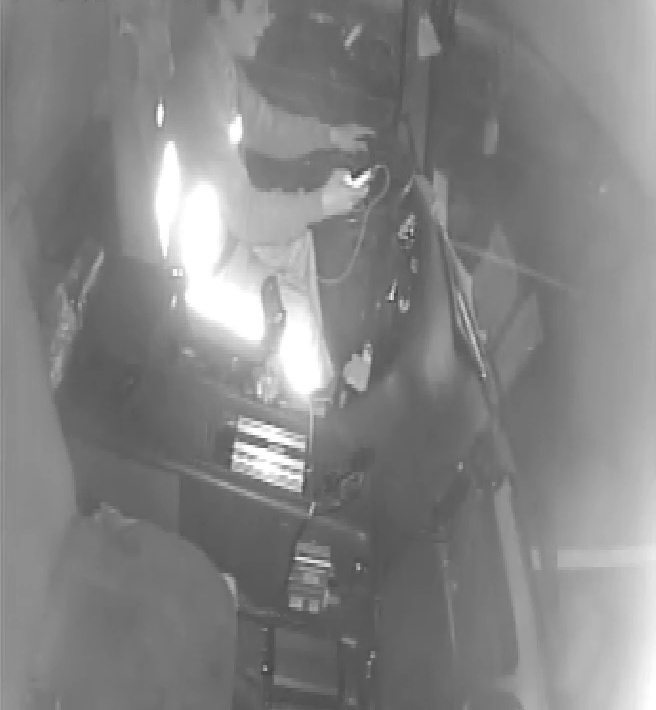cellphone: (331, 164, 378, 189)
